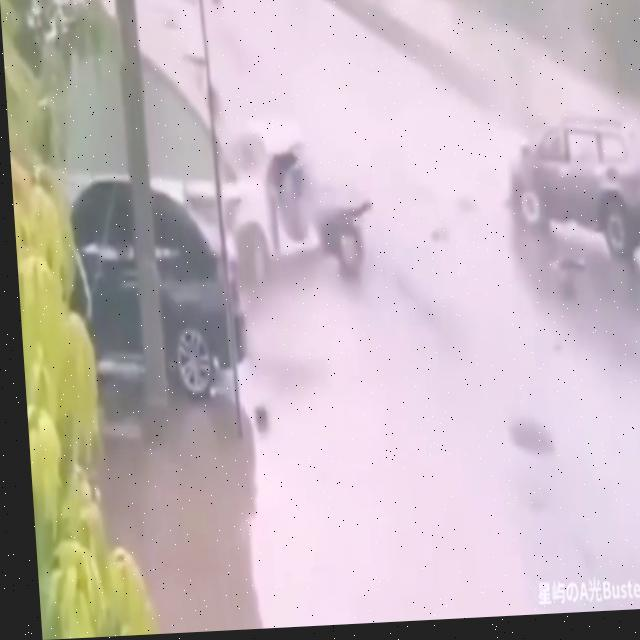multiple_accident: (146, 111, 392, 296), (489, 105, 640, 288)
